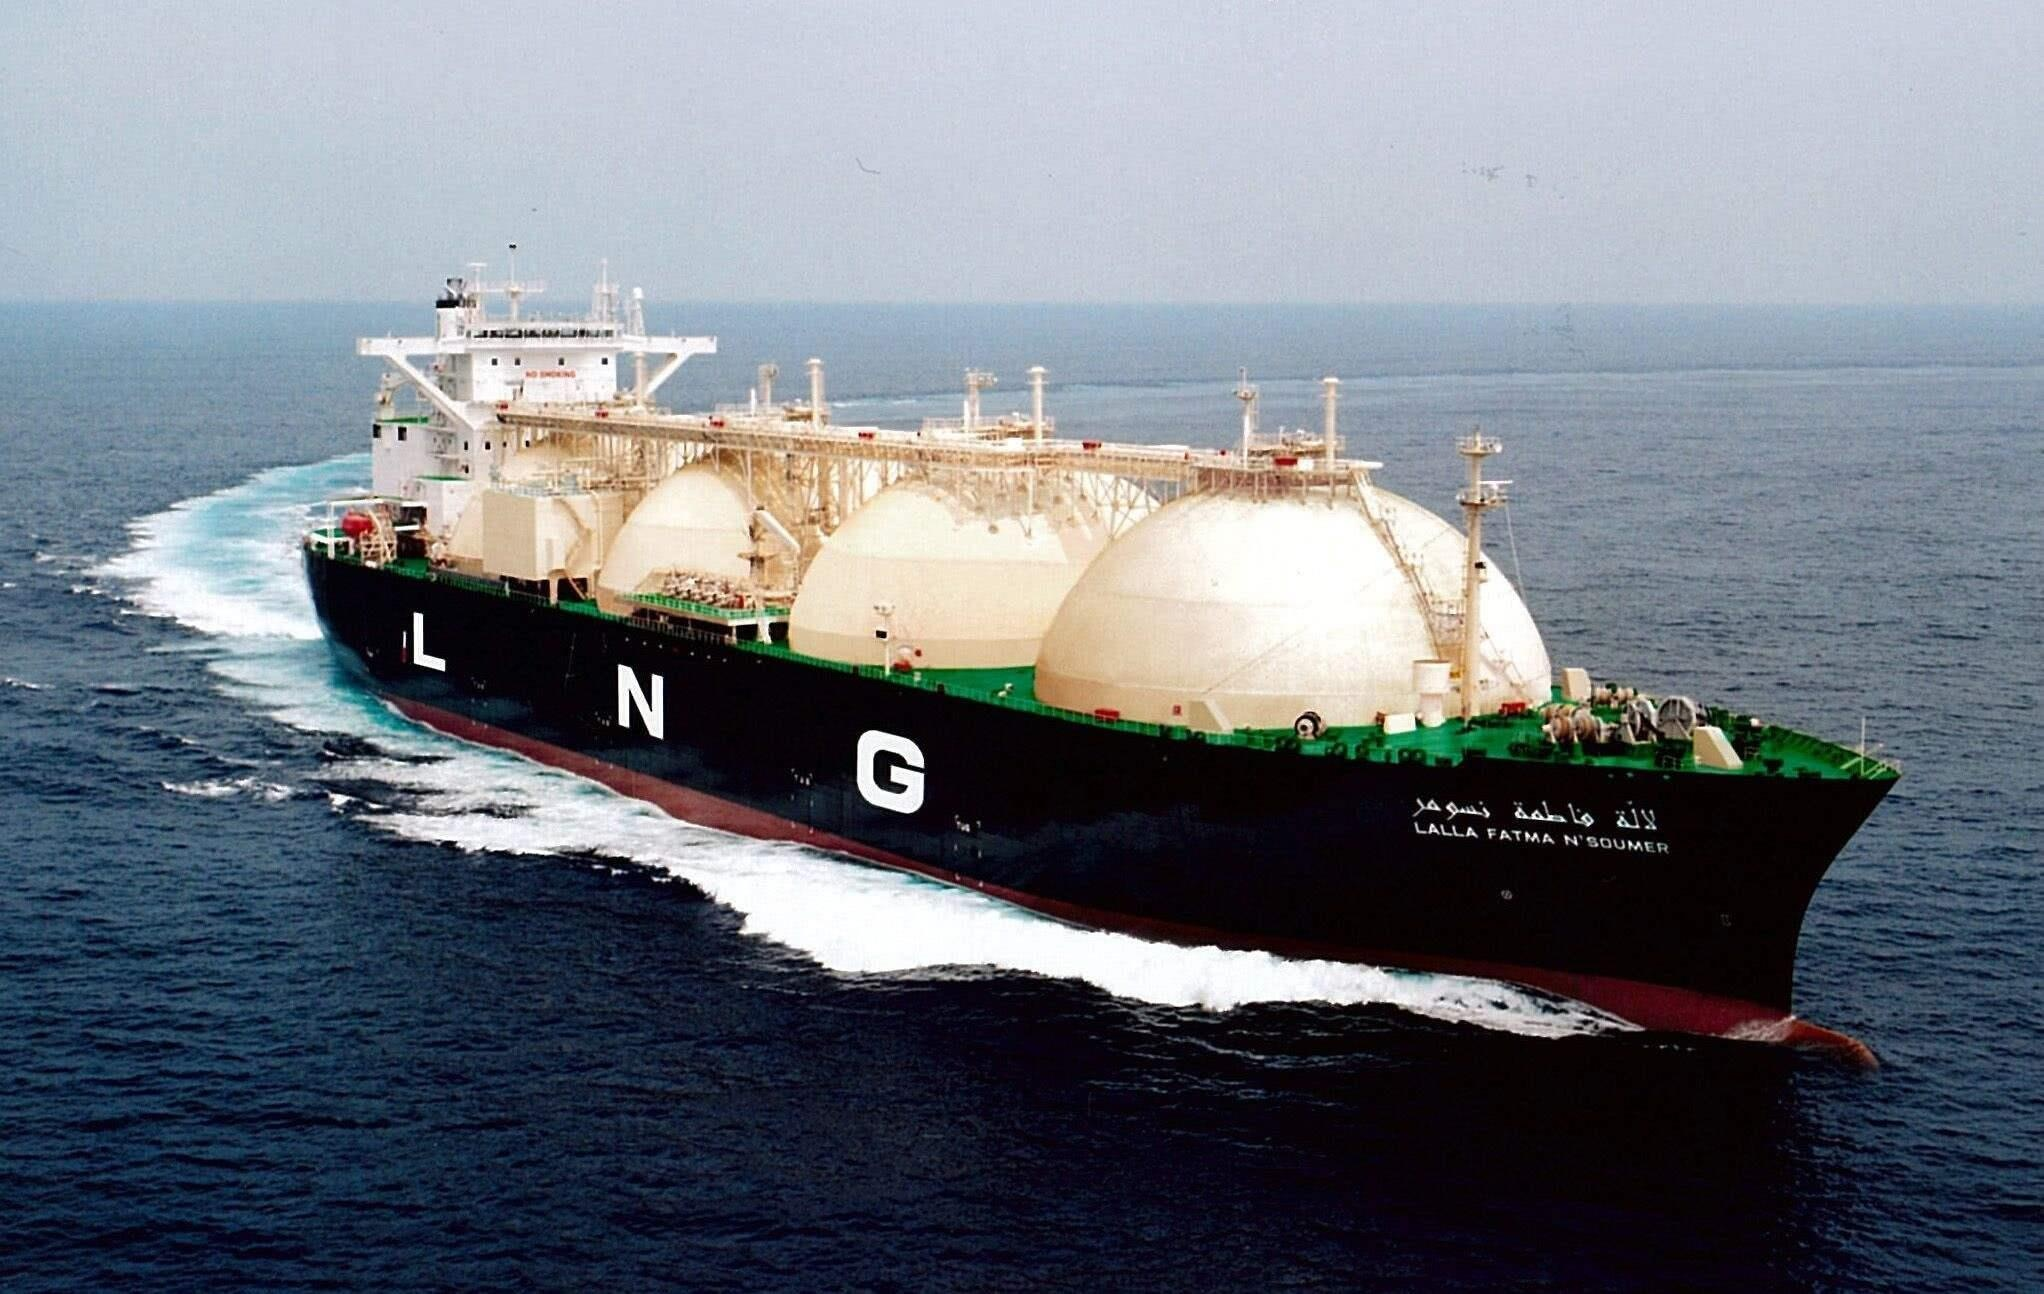Cargoship: (238, 232, 1911, 1047)
